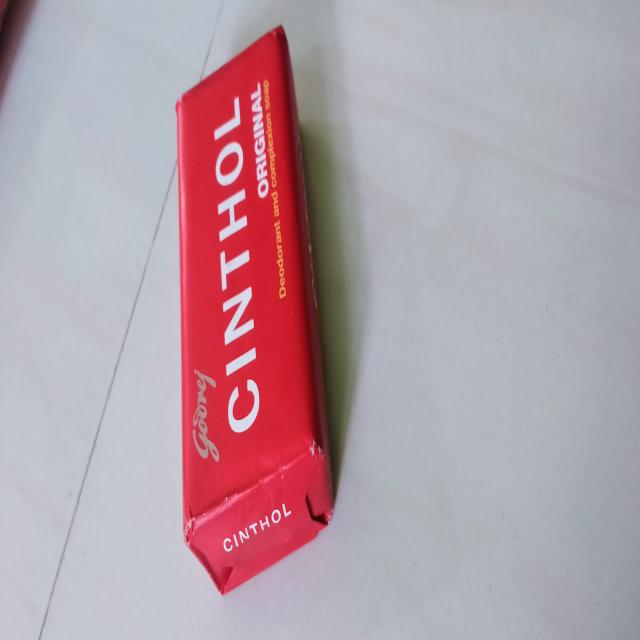soap: (167, 26, 336, 584)
